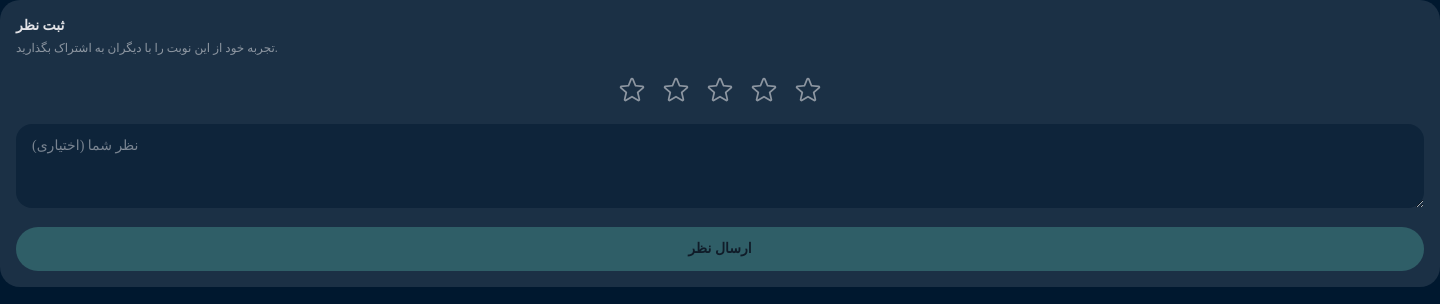
Test: AppointmentReviewSection › keeps «ارسال نظر» disabled until a star is chosen
This screenshot has width=1440, height=304.
Expected: the button "ارسال نظر" is disabled, [16, 227, 1424, 271]
Click the button named "3 ستاره".
click(720, 90)  # box [702, 72, 738, 108]
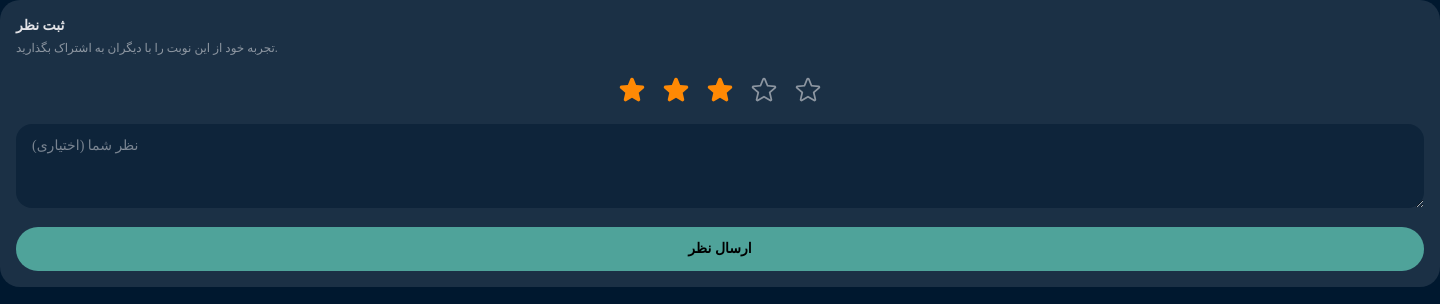
Expected: the button "ارسال نظر" is enabled, [16, 227, 1424, 271]
